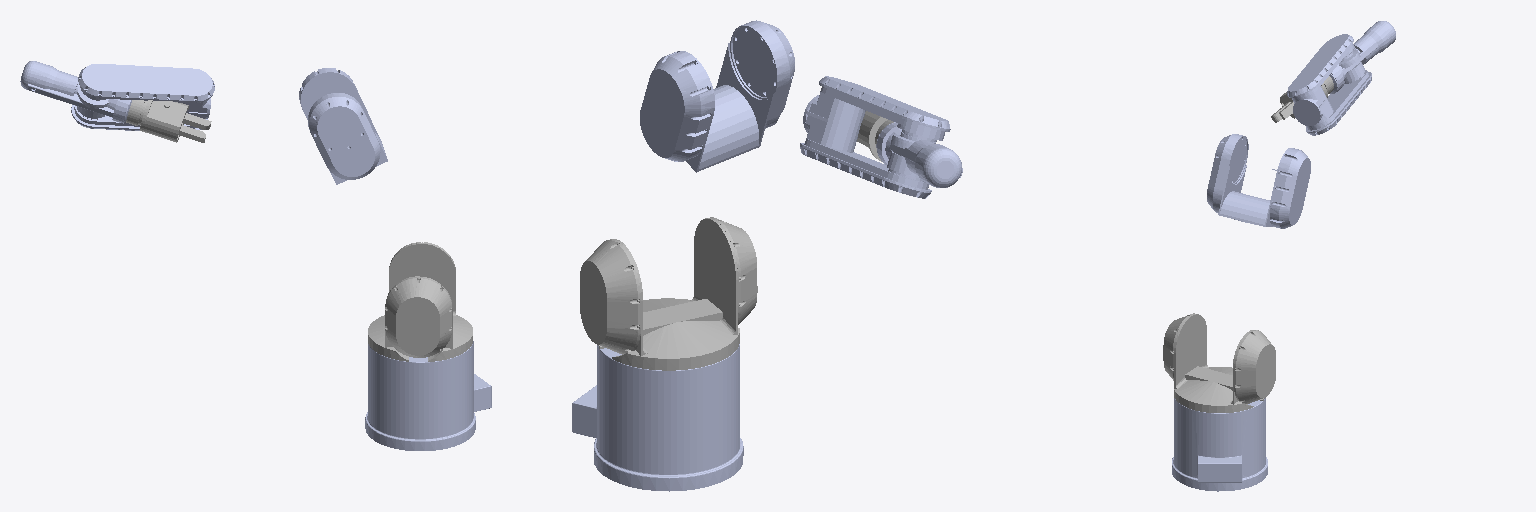
The robot description file, URDF, robot "pa10":
<robot
  name="pa10">
    <link
    name="link1">
    <inertial>
      <origin
        xyz="0 0 0"
        rpy="0 0 0" />
      <mass
        value="7.94934697220915" />
      <inertia
        ixx="0.0510642767434423"
        ixy="-0.000891049100773253"
        ixz="3.65730202857334E-12"
        iyy="0.0504677521912288"
        iyz="1.39738812812236E-10"
        izz="0.0536200422710813" />

    </inertial>
    <visual>
      <origin
        xyz="0 0 0"
        rpy="0 0 0" />
      <geometry>
        <mesh
          filename="package://pa10_description/meshes/link1.STL" />
      </geometry>
      <material
        name="">
        <color
          rgba="0.796078431372549 0.823529411764706 0.937254901960784 1" />
      </material>
    </visual>
    <collision>
      <origin
        xyz="0 0 0"
        rpy="0 0 0" />
      <geometry>
        <mesh
          filename="package://pa10_description/meshes/link1.STL" />
      </geometry>
    </collision>
  </link>
  
  <link
    name="link2">
    <inertial>
      <origin
        xyz="-0.0617285640357165 -4.46977211302629E-07 -2.02885402304353E-08"
        rpy="0 0 0" />
      <mass
        value="2.71192568839201" />
      <inertia
        ixx="0.0243201044735161"
        ixy="2.57044757772359E-07"
        ixz="-3.2309369661469E-06"
        iyy="0.0264027108199814"
        iyz="1.37537607062047E-07"
        izz="0.0115437749210812" />
    </inertial>
    <visual>
      <origin
        xyz="0 0 0"
        rpy="0 0 0" />
      <geometry>
        <mesh
          filename="package://pa10_description/meshes/link2.STL" />
      </geometry>
      <material
        name="">
        <color
          rgba="0.752941176470588 0.752941176470588 0.752941176470588 1" />
      </material>
    </visual>
    <collision>
      <origin
        xyz="0 0 0"
        rpy="0 0 0" />
      <geometry>
        <mesh
          filename="package://pa10_description/meshes/link2.STL" />
      </geometry>
    </collision>
  </link>
  
  
  <joint
    name="joint1"
    type="revolute">
    <limit upper="3.08923" lower="-3.08923" velocity="10" effort="1"/>
    <origin
      xyz="-0.0018811 0 0.10209"
      rpy="2.1378 1.5708 0" />
    <parent
      link="link1" />
    <child
      link="link2" />
    <axis
      xyz="1 0 0" />
  </joint>
  
  
  <link
    name="link3">
    <inertial>
      <origin
        xyz="-0.094181274379144 -4.63765533788296E-06 0.00129755326031771"
        rpy="0 0 0" />
      <mass
        value="4.68012900111117" />
      <inertia
        ixx="0.011384781756112"
        ixy="-5.17494991257085E-07"
        ixz="-1.63266437372498E-06"
        iyy="0.0663254092196658"
        iyz="5.70854111984348E-08"
        izz="0.0640549775205778" />
    </inertial>
    <visual>
      <origin
        xyz="0 0 0"
        rpy="0 0 0" />
      <geometry>
        <mesh
          filename="package://pa10_description/meshes/link3.STL" />
      </geometry>
      <material
        name="">
        <color
          rgba="0.796078431372549 0.823529411764706 0.937254901960784 1" />
      </material>
    </visual>
    <collision>
      <origin
        xyz="0 0 0"
        rpy="0 0 0" />
      <geometry>
        <mesh
          filename="package://pa10_description/meshes/link3.STL" />
      </geometry>
    </collision>
  </link>
  
  
  <joint
    name="joint2"
    type="revolute">
    <limit upper="1.58825" lower="-1.58825" velocity="10" effort="1"/>
    <origin
      xyz="-0.1135 0 0"
      rpy="3.1416 3.0531E-16 0.41835" />
    <parent
      link="link2" />
    <child
      link="link3" />
    <axis
      xyz="0 0 -1" />
  </joint>
  
  
  <link
    name="link4">
    <inertial>
      <origin
        xyz="-0.109018221203826 0.000175571593047485 0.00161002030587345"
        rpy="0 0 0" />
      <mass
        value="2.3539959451965" />
      <inertia
        ixx="0.0145004053705959"
        ixy="-9.20574357451834E-06"
        ixz="-0.000264473779792253"
        iyy="0.018913143036241"
        iyz="-3.07295408252502E-06"
        izz="0.00874731190324503" />
    </inertial>
    <visual>
      <origin
        xyz="0 0 0"
        rpy="0 0 0" />
      <geometry>
        <mesh
          filename="package://pa10_description/meshes/link4.STL" />
      </geometry>
      <material
        name="">
        <color
          rgba="0.796078431372549 0.823529411764706 0.937254901960784 1" />
      </material>
    </visual>
    <collision>
      <origin
        xyz="0 0 0"
        rpy="0 0 0" />
      <geometry>
        <mesh
          filename="package://pa10_description/meshes/link4.STL" />
      </geometry>
    </collision>
  </link>
  
  
  <joint
    name="joint3"
    type="revolute">
    <limit upper="3.03687" lower="-3.03687" velocity="10" effort="1"/>
    <origin
      xyz="-0.2825 0 0.0029999"
      rpy="-0.18174 1.2062E-07 6.5638E-07" />
    <parent
      link="link3" />
    <child
      link="link4" />
    <axis
      xyz="1 0 0" />
  </joint>
  
  
  <link
    name="link5">
    <inertial>
      <origin
        xyz="-0.0847859918312063 -1.41827960625784E-05 -0.0002042047160195"
        rpy="0 0 0" />
      <mass
        value="2.05851442359338" />
      <inertia
        ixx="0.00292511622390553"
        ixy="1.41784162912146E-06"
        ixz="0.00060867951854864"
        iyy="0.020909916742985"
        iyz="1.12871901963483E-06"
        izz="0.0201272225685895" />
    </inertial>
    <visual>
      <origin
        xyz="0 0 0"
        rpy="0 0 0" />
      <geometry>
        <mesh
          filename="package://pa10_description/meshes/link5.STL" />
      </geometry>
      <material
        name="">
        <color
          rgba="0.796078431372549 0.823529411764706 0.937254901960784 1" />
      </material>
    </visual>
    <collision>
      <origin
        xyz="0 0 0"
        rpy="0 0 0" />
      <geometry>
        <mesh
          filename="package://pa10_description/meshes/link5.STL" />
      </geometry>
    </collision>
  </link>
  
  
  <joint
    name="joint4"
    type="revolute">
    <limit upper="2.3911" lower="-2.3911" velocity="10" effort="1"/>
    <origin
      xyz="-0.16801 -1.7923E-05 0"
      rpy="-3.1416 -1.1102E-16 -1.0484" />
    <parent
      link="link4" />
    <child
      link="link5" />
    <axis
      xyz="0 0 1" />
  </joint>
  
  
  <link
    name="link6">
    <inertial>
      <origin
        xyz="-0.00805272105966082 0.000110235624640742 0.00069149937940316"
        rpy="0 0 0" />
      <mass
        value="1.37119764561499" />
<!--      <inertia
        ixx="0.00333020297641962"
        ixy="-7.8633755251471E-07"
        ixz="-0.000117294966007319"
        iyy="0.0117528447479912"
        iyz="5.34812034426197E-09"
        izz="0.00961712575206474" />-->
      <inertia
        ixx="1"
        ixy="0"
        ixz="0"
        iyy="1"
        iyz="0"
        izz="1" />
    </inertial>
    <visual>
      <origin
        xyz="0 0 0"
        rpy="0 0 0" />
      <geometry>
        <mesh
          filename="package://pa10_description/meshes/link6.STL" />
      </geometry>
      <material
        name="">
        <color
          rgba="0.796078431372549 0.823529411764706 0.937254901960784 1" />
      </material>
    </visual>
    <collision>
      <origin
        xyz="0 0 0"
        rpy="0 0 0" />
      <geometry>
        <mesh
          filename="package://pa10_description/meshes/link6.STL" />
      </geometry>
    </collision>
  </link>
  
  
  <joint
    name="joint5"
    type="revolute">
    <limit upper="4.45059" lower="-4.45059" velocity="10" effort="1"/>
    <origin
      xyz="-0.36824 0 -0.0020003"
      rpy="-1.049 2.1649E-15 9.992E-16" />
    <parent
      link="link5" />
    <child
      link="link6" />
    <axis
      xyz="1 0 0" />
  </joint>
  
  
  <link
    name="link7">
    <inertial>
      <origin
        xyz="0.0312759039478299 0.00123419126834035 0.00086359769683747"
        rpy="0 0 0" />
      <mass
        value="0.749475964810386" /><!--
      <inertia
        ixx="0.000413239571105982"
        ixy="-2.89936057339336E-05"
        ixz="4.19297763029297E-06"
        iyy="0.00379347775132525"
        iyz="-5.2418695993306E-07"
        izz="0.00378820414120642" />-->
      <inertia
        ixx="1"
        ixy="0"
        ixz="0"
        iyy="1"
        iyz="0"
        izz="1" />
    </inertial>
    <visual>
      <origin
        xyz="0 0 0"
        rpy="0 0 0" />
      <geometry>
        <mesh
          filename="package://pa10_description/meshes/link7.STL" />
      </geometry>
      <material
        name="">
        <color
          rgba="0.796078431372549 0.823529411764706 0.937254901960784 1" />
      </material>
    </visual>
    <collision>
      <origin
        xyz="0 0 0"
        rpy="0 0 0" />
      <geometry>
        <mesh
          filename="package://pa10_description/meshes/link7.STL" />
      </geometry>
    </collision>
  </link>
  
  
  <joint
    name="joint6"
    type="revolute">
    <limit upper="2.87979" lower="-2.87979" velocity="10" effort="1"/>
    <origin
      xyz="-0.13176 0.00011584 0"
      rpy="-1.5708 -2.387E-15 2.7988" />
    <parent
      link="link6" />
    <child
      link="link7" />
    <axis
      xyz="0 1 0" />
  </joint>

  
  <link
    name="gripper">
    <inertial>
      <origin
        xyz="0 0 0 "
        rpy="0 0 0" />
      <mass
        value="0.503434618093404" />
      <inertia
        ixx="0.000342649917619129"
        ixy="6.61938018518561E-08"
        ixz="-1.11818564814543E-06"
        iyy="0.000811982228895405"
        iyz="3.59921930811222E-08"
        izz="0.000868402490904897" />
    </inertial>
    <visual>
      <origin
        xyz="0.127 0.040 0.1897 "
        rpy="0 0 0" />
      <geometry>
        <mesh
          filename="package://pa10_description/meshes/gripper.STL" />
      </geometry>
      <material
        name="">
        <color
          rgba="0.752941176470588 0.752941176470588 0.752941176470588 1" />
      </material>
    </visual>
    <collision>
      <origin
        xyz="0.127 0.040 0.1897 "
        rpy="0 0 0" />
      <geometry>
        <mesh
          filename="package://pa10_description/meshes/gripper.STL" />
      </geometry>
    </collision>
  </link>
  <joint
    name="joint7"
    type="fixed">
    <origin
      xyz="-0.0151776310000001 0.188974699 0"
      rpy="-1.3483209505953 2.42861286636753E-15 3.14159265358979" />
    <parent
      link="link7" />
    <child
      link="gripper" />
    <axis
      xyz="0 0 0" />
  </joint>
  
    <transmission name="tran1">
    <type>transmission_interface/SimpleTransmission</type>
    <joint name="joint1">
      <hardwareInterface>EffortJointInterface</hardwareInterface>
    </joint>
    <actuator name="motor1">
      <hardwareInterface>EffortJointInterface</hardwareInterface>
      <mechanicalReduction>1</mechanicalReduction>
    </actuator>
  </transmission>
  
    <transmission name="tran2">
    <type>transmission_interface/SimpleTransmission</type>
    <joint name="joint2">
      <hardwareInterface>EffortJointInterface</hardwareInterface>
    </joint>
    <actuator name="motor2">
      <hardwareInterface>EffortJointInterface</hardwareInterface>
      <mechanicalReduction>1</mechanicalReduction>
    </actuator>
  </transmission>
  
    <transmission name="tran3">
    <type>transmission_interface/SimpleTransmission</type>
    <joint name="joint3">
      <hardwareInterface>EffortJointInterface</hardwareInterface>
    </joint>
    <actuator name="motor3">
      <hardwareInterface>EffortJointInterface</hardwareInterface>
      <mechanicalReduction>1</mechanicalReduction>
    </actuator>
  </transmission>
  
    <transmission name="tran4">
    <type>transmission_interface/SimpleTransmission</type>
    <joint name="joint4">
      <hardwareInterface>EffortJointInterface</hardwareInterface>
    </joint>
    <actuator name="motor4">
      <hardwareInterface>EffortJointInterface</hardwareInterface>
      <mechanicalReduction>1</mechanicalReduction>
    </actuator>
  </transmission>
  
  <transmission name="tran5">
    <type>transmission_interface/SimpleTransmission</type>
    <joint name="joint5">
      <hardwareInterface>EffortJointInterface</hardwareInterface>
    </joint>
    <actuator name="motor5">
      <hardwareInterface>EffortJointInterface</hardwareInterface>
      <mechanicalReduction>1</mechanicalReduction>
    </actuator>
  </transmission>
  
  <transmission name="tran6">
    <type>transmission_interface/SimpleTransmission</type>
    <joint name="joint6">
      <hardwareInterface>EffortJointInterface</hardwareInterface>
    </joint>
    <actuator name="motor6">
      <hardwareInterface>EffortJointInterface</hardwareInterface>
      <mechanicalReduction>1</mechanicalReduction>
    </actuator>
  </transmission>
  
  
<!--Ros gazebo_ros_control is used to control the robot from ros in gazebo    -->
  
  <gazebo>
    <plugin name="gazebo_ros_control" filename="libgazebo_ros_control.so">
      <robotNamespace>/pa10</robotNamespace>
<!--       <robotSimType>gazebo_ros_control/DefaultRobotHWSim</robotSimType> -->
    </plugin>
  </gazebo>
<!--  <gazebo>
    <static>true</static>
  </gazebo>-->
  <selfcollide>1</selfcollide>
    
    <link name="world"/>

    
    <!--To fixe the bqse of the robot-->
  <joint name="fixed" type="fixed">
    <parent link="world"/>
    <child link="link1"/>
  </joint>
  
</robot>

--- Render facts (derived) ---
Views: 3 orthographic renders of the robot side by side, from view 1: azimuth 30°, elevation 25°; view 2: azimuth 150°, elevation 25°; view 3: azimuth 270°, elevation 25°.
Model pa10 with 9 links and 8 joints (6 revolute, 2 fixed), rooted at world, posed every joint at zero.
Visible links, largest first — view 1: link1, link2, link4, link6, link7, gripper; view 2: link1, link2, link4, link6, link7, gripper; view 3: link2, link1, link4, link6, link7, gripper.
Link boxes in pixels (left/top/right/bottom): link1: left=365, top=341, right=491, bottom=450; link2: left=368, top=242, right=472, bottom=361; link4: left=299, top=68, right=387, bottom=184; link6: left=71, top=64, right=214, bottom=130; link7: left=20, top=61, right=131, bottom=123; gripper: left=126, top=100, right=211, bottom=142; link1: left=572, top=344, right=743, bottom=491; link2: left=580, top=217, right=757, bottom=370; link4: left=640, top=20, right=794, bottom=172; link6: left=800, top=76, right=950, bottom=198; link7: left=876, top=122, right=962, bottom=187; gripper: left=857, top=111, right=893, bottom=161; link2: left=1163, top=313, right=1275, bottom=412; link1: left=1172, top=398, right=1267, bottom=491; link4: left=1207, top=134, right=1310, bottom=228; link6: left=1287, top=34, right=1371, bottom=135; link7: left=1329, top=21, right=1395, bottom=93; gripper: left=1271, top=76, right=1333, bottom=122.
Size in the robot's own frame: 0.877 by 0.5532 by 0.8538 metres.
Meshes: 8 distinct files referenced, 6 mesh visuals loaded (6 binary STL); not drawn: 2 (reference not matched to a file when rendering).